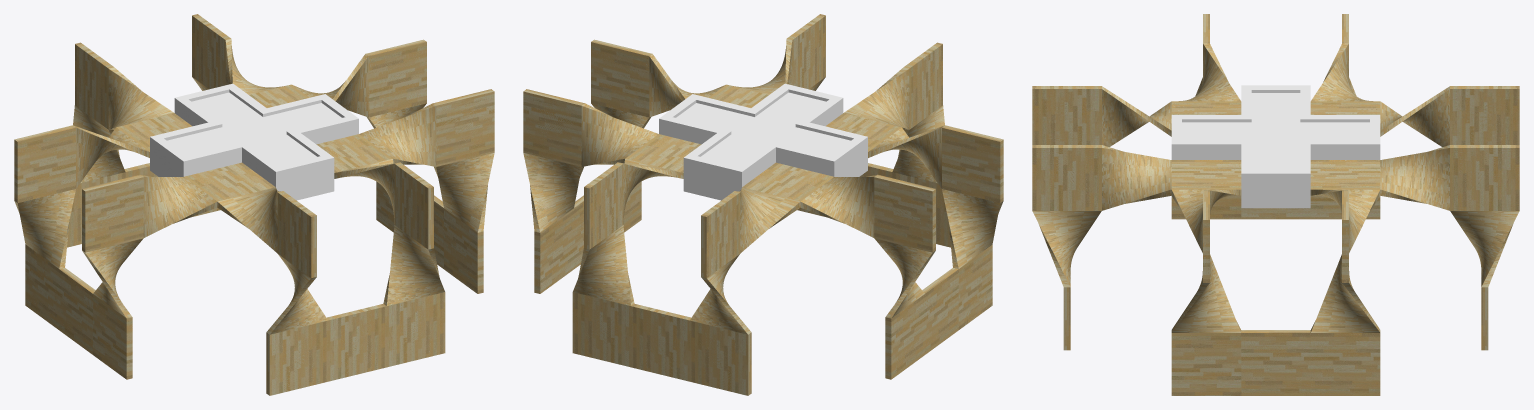
File: Worlds.dae
3 renders of one model, left to right at view 1: azimuth 30°, elevation 25°; view 2: azimuth 150°, elevation 25°; view 3: azimuth 270°, elevation 25°, orthographic. The views are drawn at different scales.
Visible parts, largest first — view 1: group_1 (×4), group_0 (×2), instance_21, instance_23, instance_4, instance_10, instance_11, instance_6, instance_7, instance_3, instance_8, instance_16 (+12 smaller); view 2: group_1 (×4), group_0 (×2), instance_23, instance_21, instance_1, instance_11, instance_10, instance_14, instance_15, instance_0, instance_12, instance_18 (+12 smaller); view 3: group_1 (×4), group_0 (×2), instance_8, instance_12, instance_17, instance_16, instance_18, instance_0, instance_3, instance_9, instance_13, instance_2 (+8 smaller).
Boxes of the visible parts, x1,y1,x2,y2 form: group_1 (×4): [14, 39, 494, 334]; group_0 (×2): [150, 83, 358, 200]; instance_21: [14, 125, 75, 202]; instance_23: [82, 174, 143, 252]; instance_4: [266, 320, 328, 395]; instance_10: [433, 89, 494, 166]; instance_11: [365, 39, 426, 117]; instance_6: [327, 304, 386, 381]; instance_7: [386, 292, 445, 367]; instance_3: [277, 191, 316, 278]; instance_8: [394, 162, 433, 249]; instance_16: [444, 208, 483, 293]; group_1 (×4): [523, 39, 1003, 334]; group_0 (×2): [659, 83, 867, 200]; instance_23: [942, 125, 1003, 202]; instance_21: [874, 174, 935, 252]; instance_1: [689, 320, 751, 395]; instance_11: [523, 89, 584, 166]; instance_10: [591, 39, 652, 117]; instance_14: [631, 304, 690, 381]; instance_15: [572, 292, 631, 367]; instance_0: [701, 191, 740, 278]; instance_12: [584, 162, 623, 249]; instance_18: [534, 208, 573, 293]; group_1 (×4): [1032, 43, 1519, 332]; group_0 (×2): [1171, 85, 1380, 208]; instance_8: [1032, 145, 1101, 210]; instance_12: [1450, 145, 1519, 210]; instance_17: [1241, 330, 1310, 395]; instance_16: [1171, 333, 1241, 395]; instance_18: [1310, 333, 1380, 395]; instance_0: [1450, 86, 1519, 144]; instance_3: [1032, 86, 1101, 144]; instance_9: [1171, 160, 1241, 189]; instance_13: [1310, 160, 1380, 189]; instance_2: [1310, 101, 1380, 114].
Size of the model in its own units: 276 by 276 by 118.
2 materials, 1 textured.
